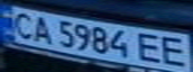4: (109, 28, 133, 58)
5: (51, 18, 78, 48)
8: (90, 25, 112, 55)
9: (69, 21, 93, 52)
A: (27, 14, 57, 44)
C: (3, 8, 39, 41)
E: (157, 34, 193, 69), (133, 30, 169, 64)
